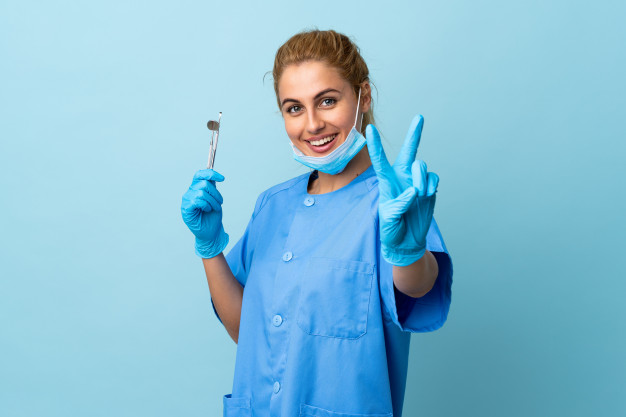mask_weared_incorrect: (272, 67, 376, 183)
